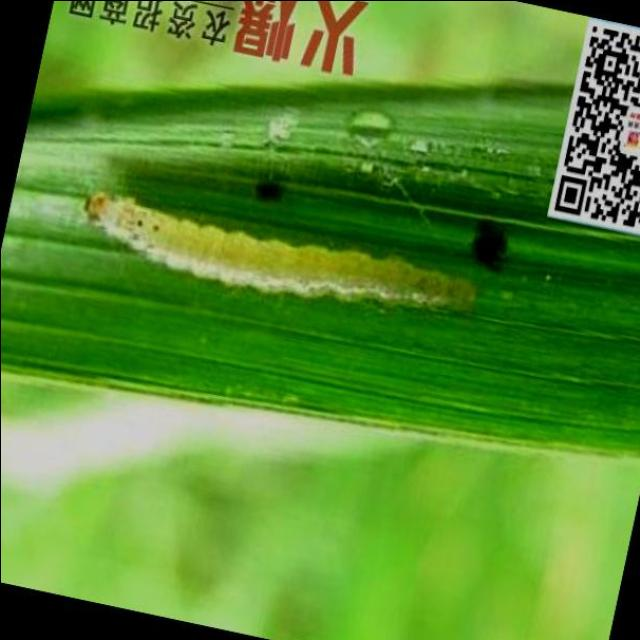leaf folder: (83, 191, 474, 306)
